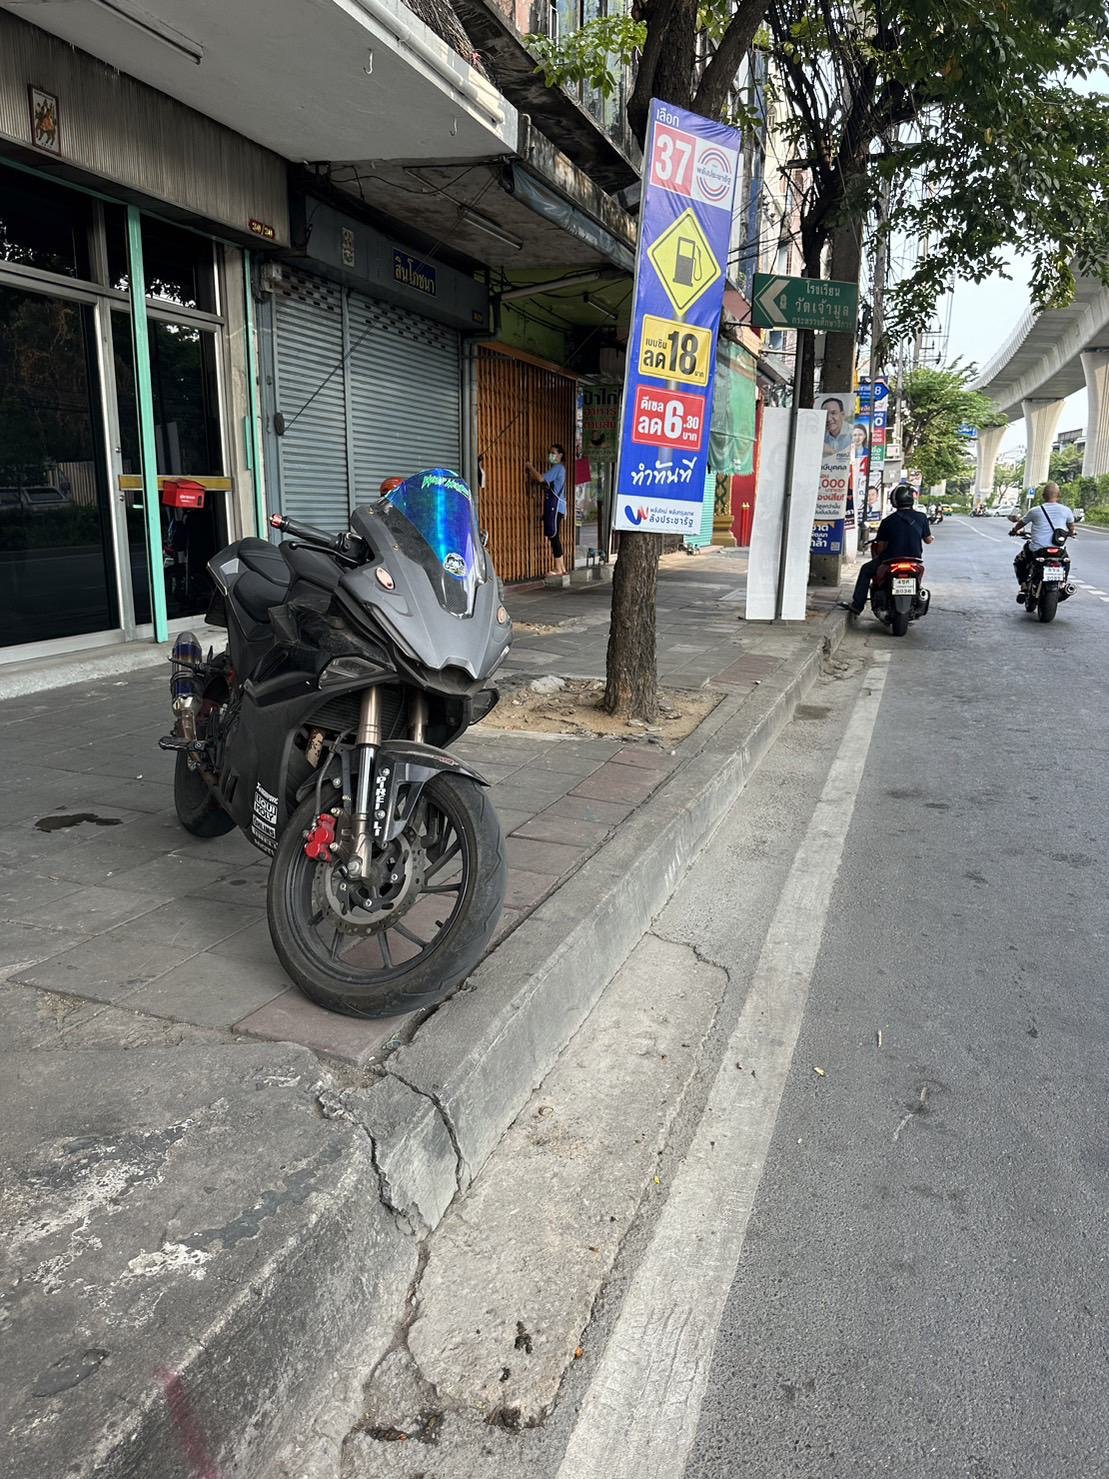Banner: (598, 95, 746, 522)
